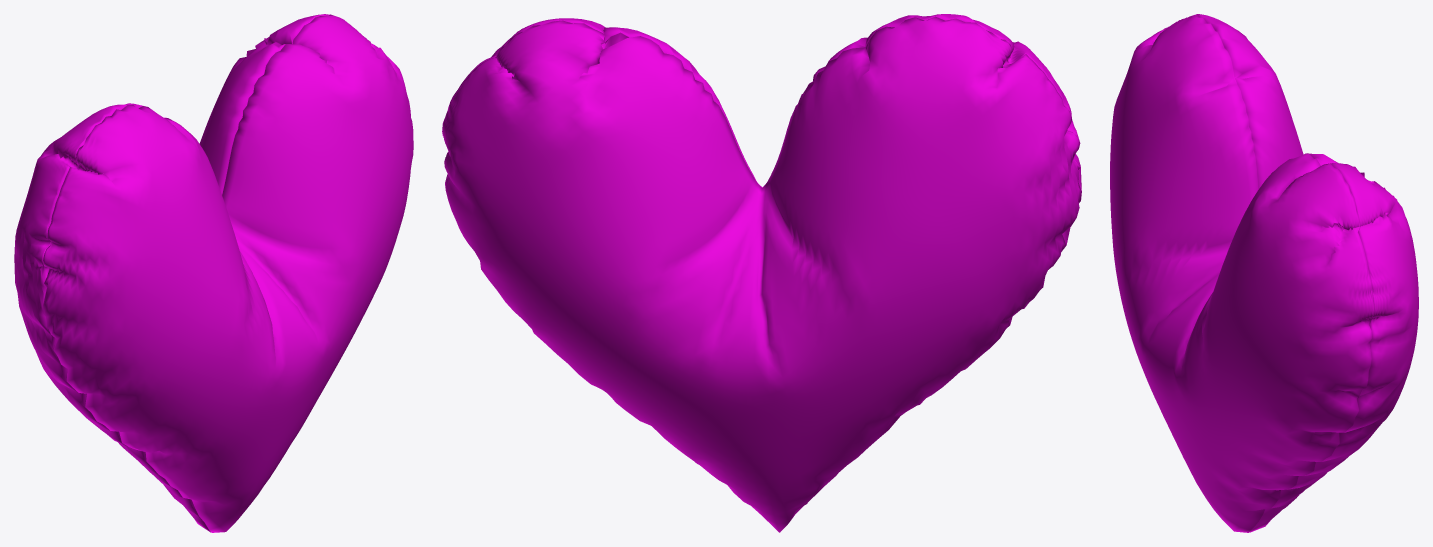
The model's file is balloonPoly.glb.
3 views of the same model, side by side, from view 1: azimuth 30°, elevation 25°; view 2: azimuth 150°, elevation 25°; view 3: azimuth 270°, elevation 25° (orthographic). The views are drawn at different scales.
Visible parts, largest first — view 1: balloon; view 2: balloon; view 3: balloon.
Part boxes in pixels (box(x1,y1,x2,y2)): balloon: box(14, 14, 413, 532); balloon: box(442, 14, 1081, 532); balloon: box(1110, 14, 1418, 532).
Size of the model in its own units: 0.3588 by 0.3476 by 0.2141.
